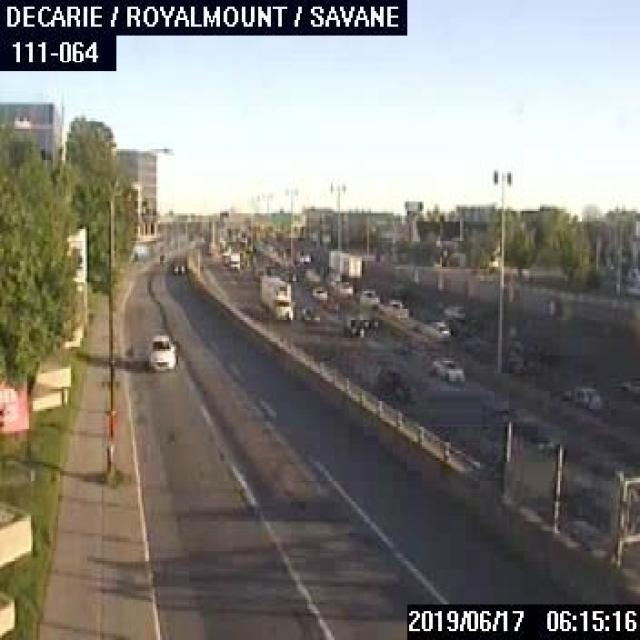vehicle: (258, 272, 294, 319), (140, 331, 176, 371), (374, 367, 411, 402), (562, 382, 606, 407), (428, 356, 466, 380), (616, 371, 638, 400), (338, 249, 361, 275), (420, 319, 451, 336), (440, 302, 464, 319), (342, 315, 362, 335), (300, 306, 319, 322), (331, 279, 351, 292), (387, 298, 406, 310), (170, 256, 184, 272), (360, 289, 378, 301), (312, 285, 326, 298), (229, 252, 239, 268)
